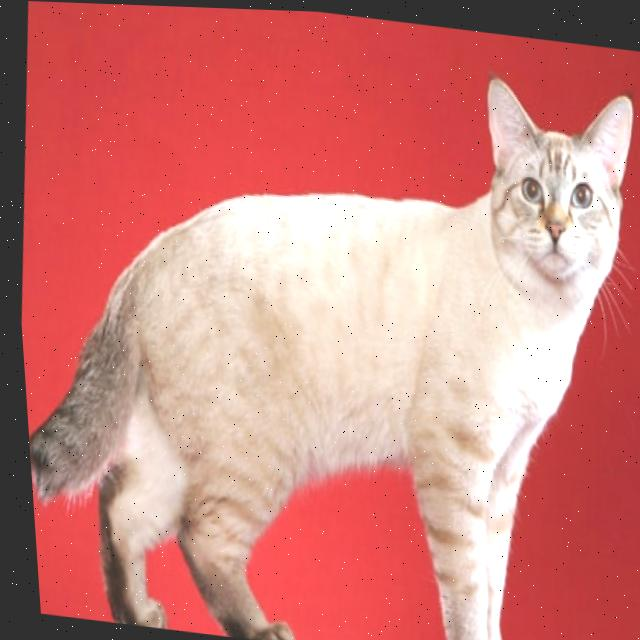American Bobtail: (0, 5, 640, 640)
